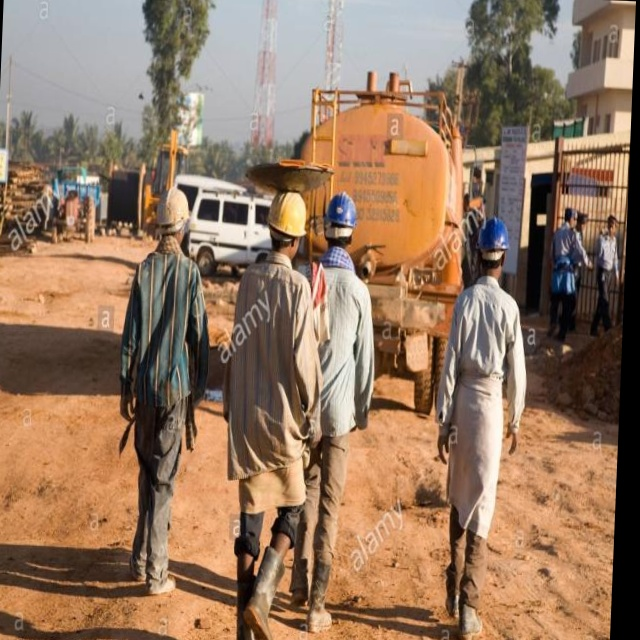Con_Casco: (267, 191, 306, 254)
Sin_Chaleco: (132, 248, 197, 414), (455, 279, 516, 393)
